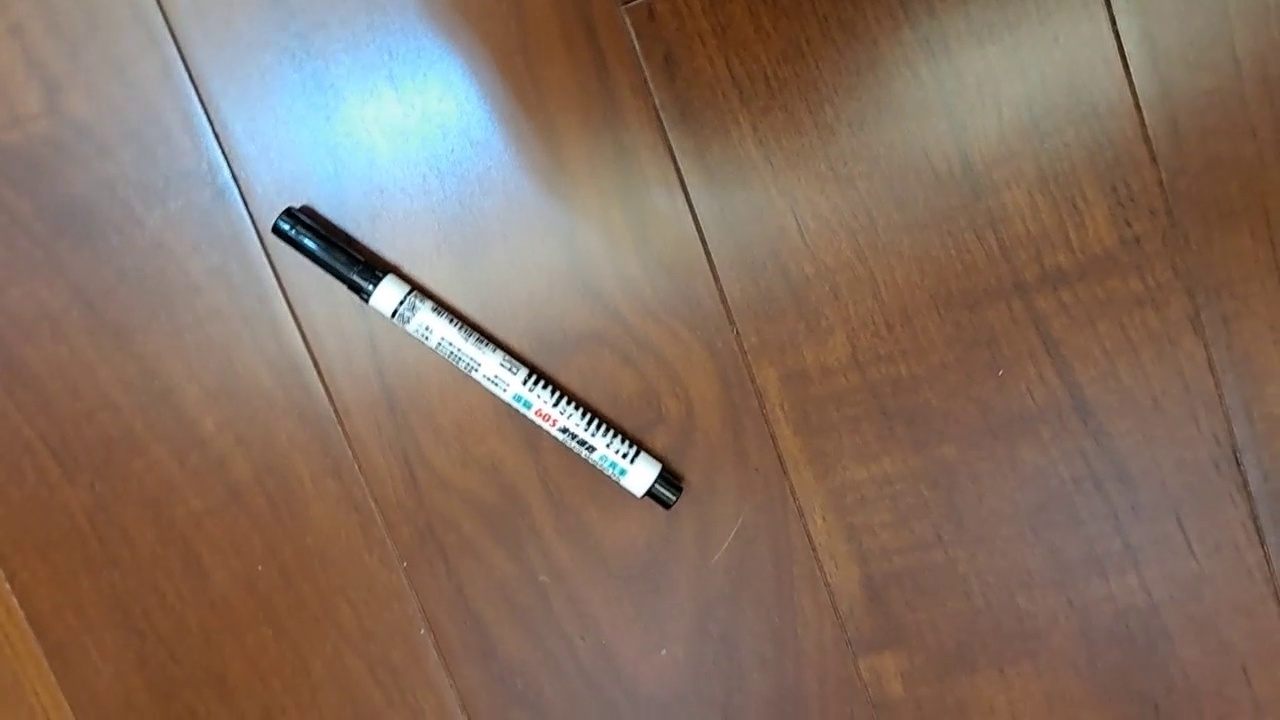pen: (270, 204, 684, 512)
